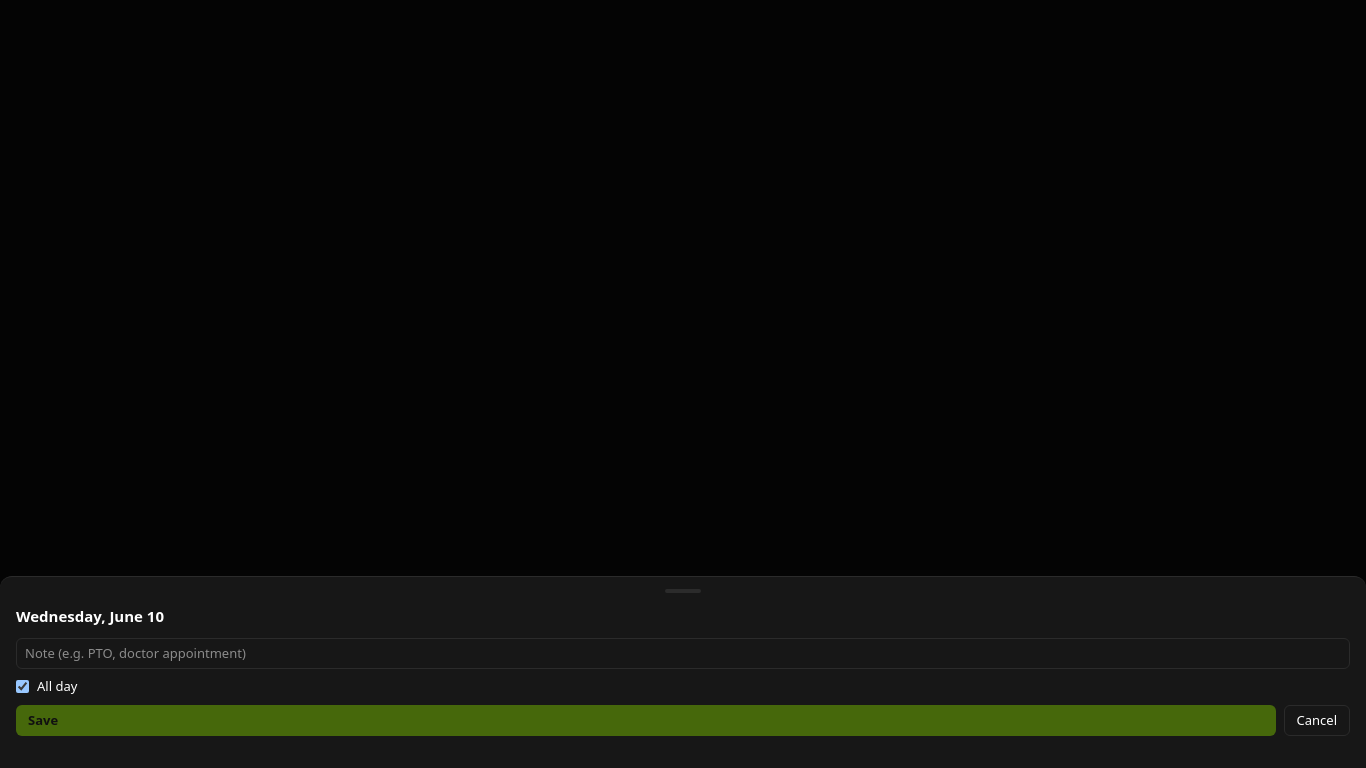
Test: MobileAppointmentSheet › shows time pickers when all-day is unchecked
Click the checkbox labelled "All day". click: x=22, y=687
box: [16,680,29,693]
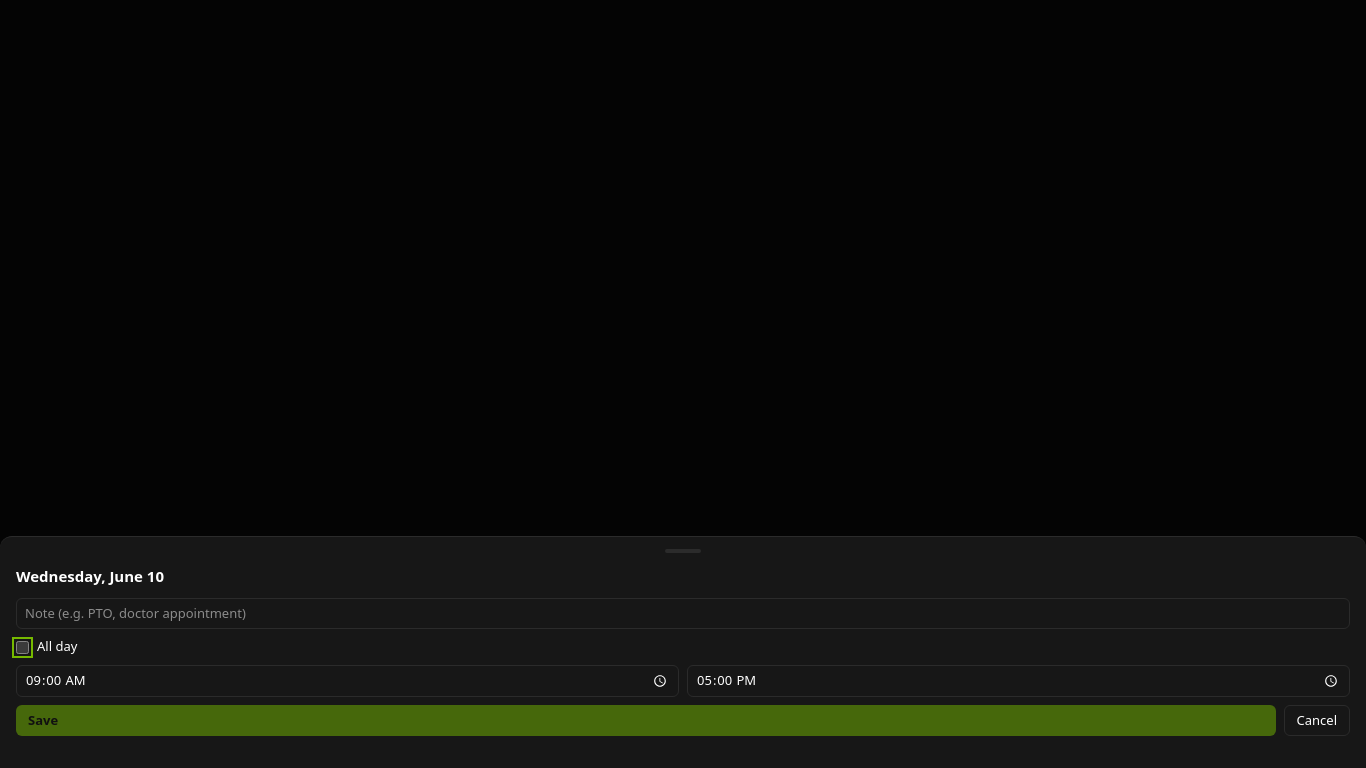
Now the number of time fields is 2, box [16,665,679,696]; [687,665,1350,696]
